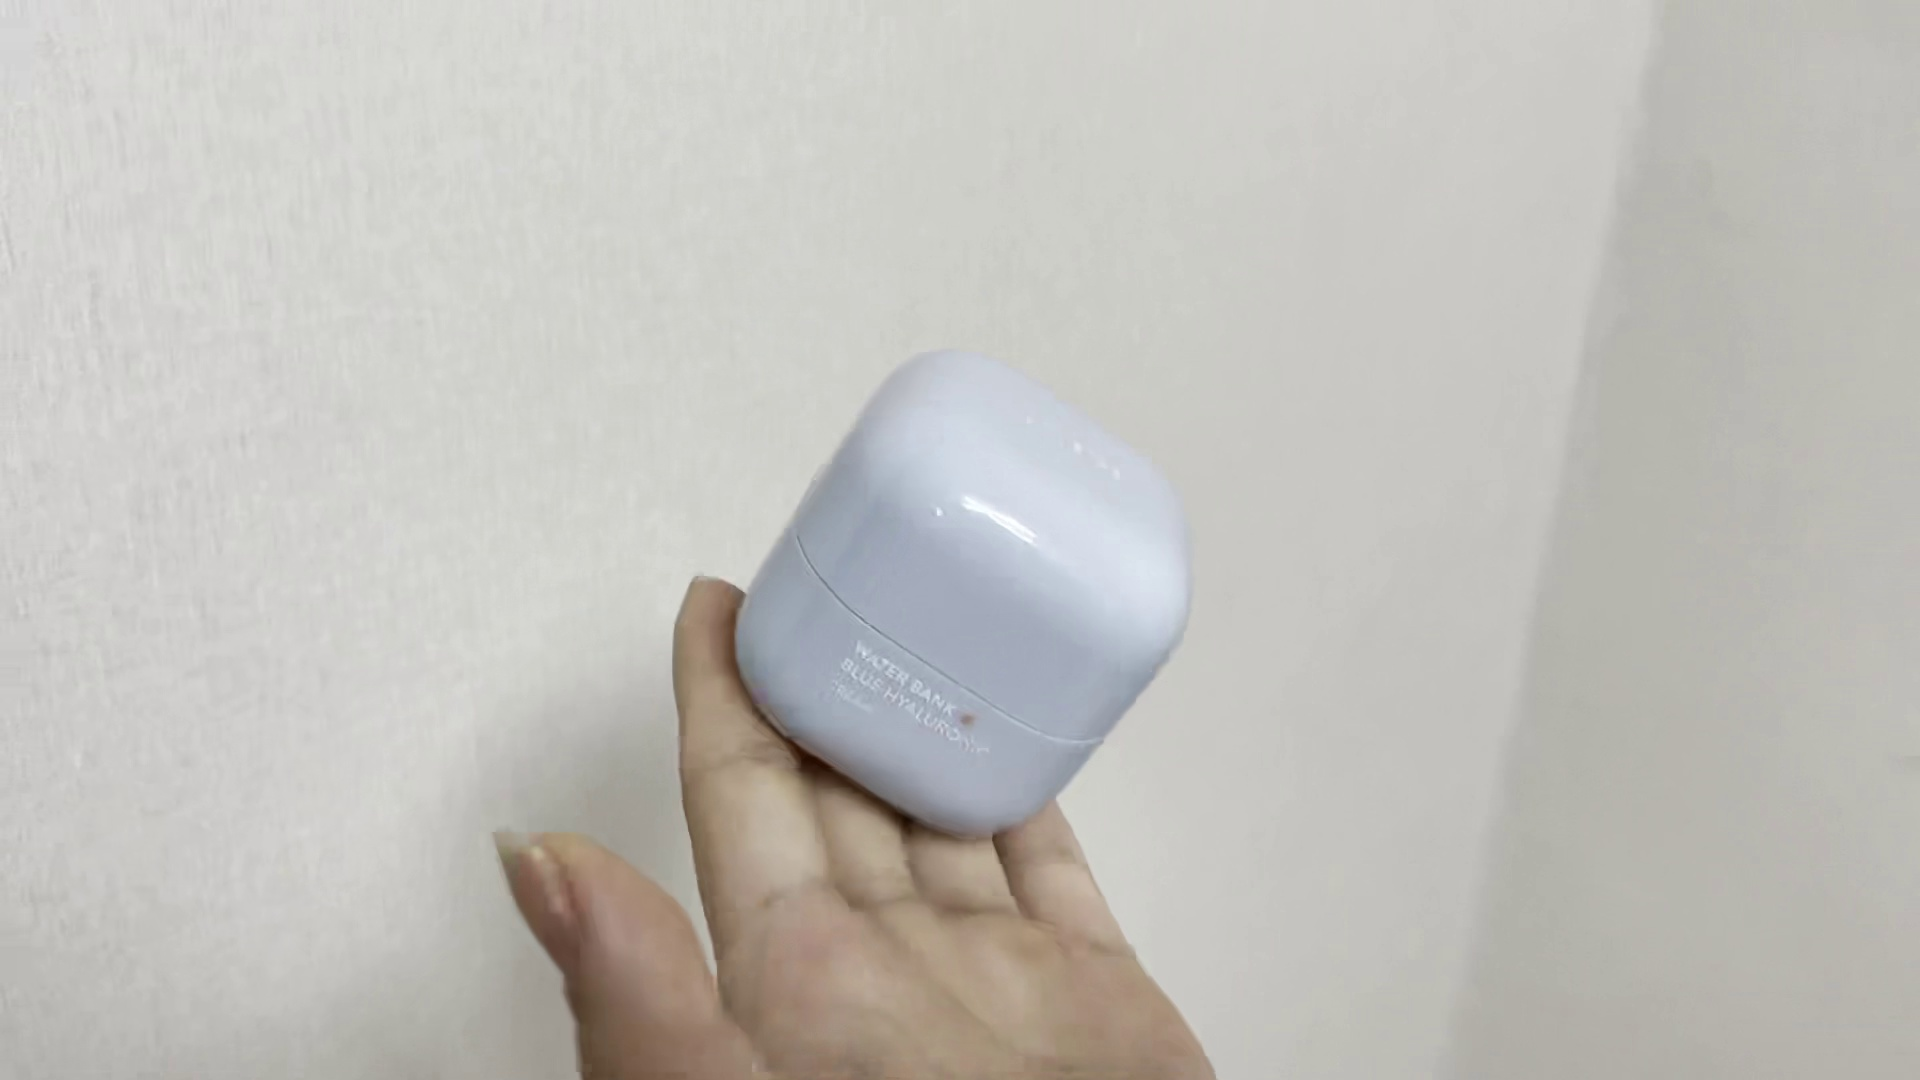cream: (736, 345, 1193, 836)
